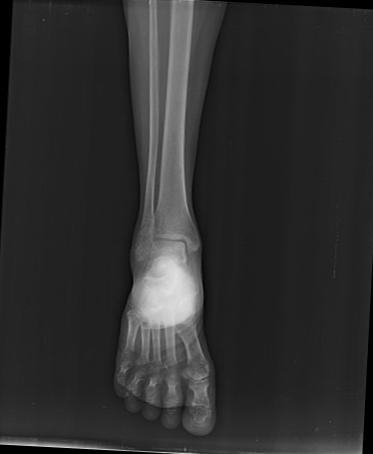fractured: (132, 205, 154, 263)
